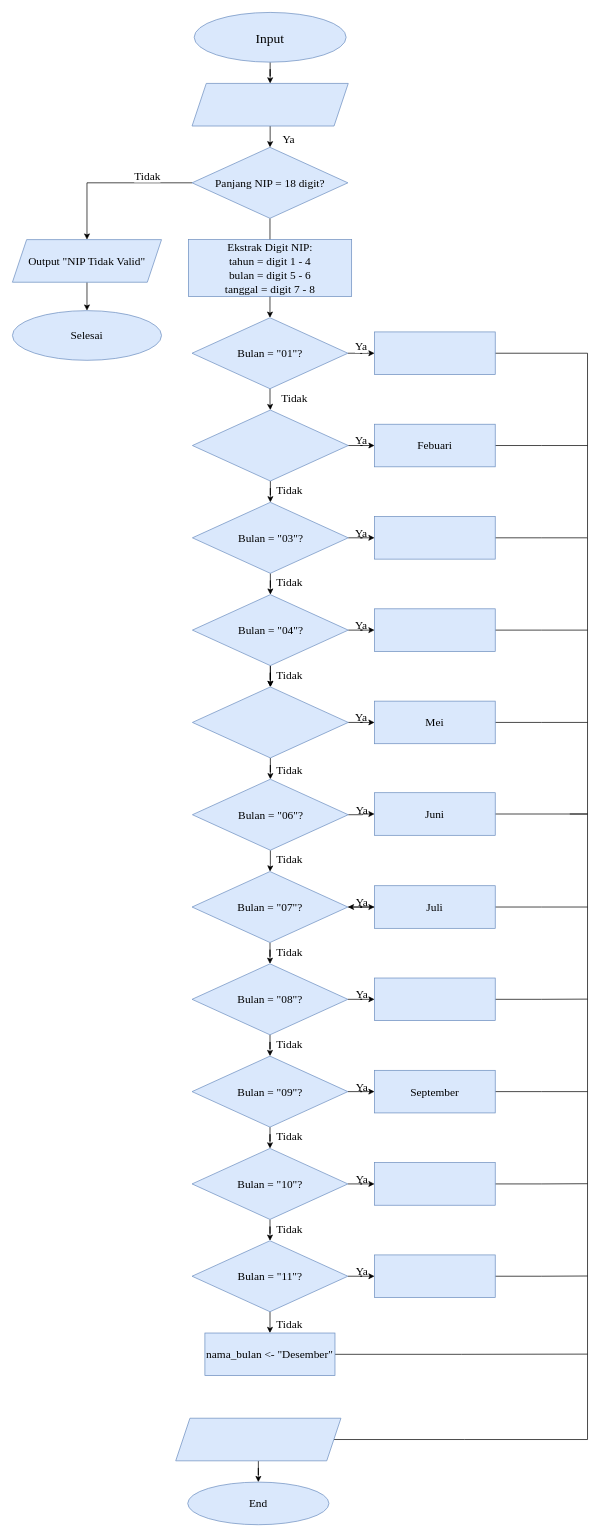
Image size: 601x1537. Some labels were removed from this diagram. The centre of each missing label's shape, as x and y in pixels:
Agustus: (434,999)
April: (434,629)
Bulan = "02"?: (270,445)
Bulan = "05"?: (270,722)
Input NIP ASN: (269,104)
Januari: (434,353)
Maret: (434,537)
November: (434,1276)
Oktober: (434,1183)
Output: "Tanggal Lahir ASN": (258,1439)
